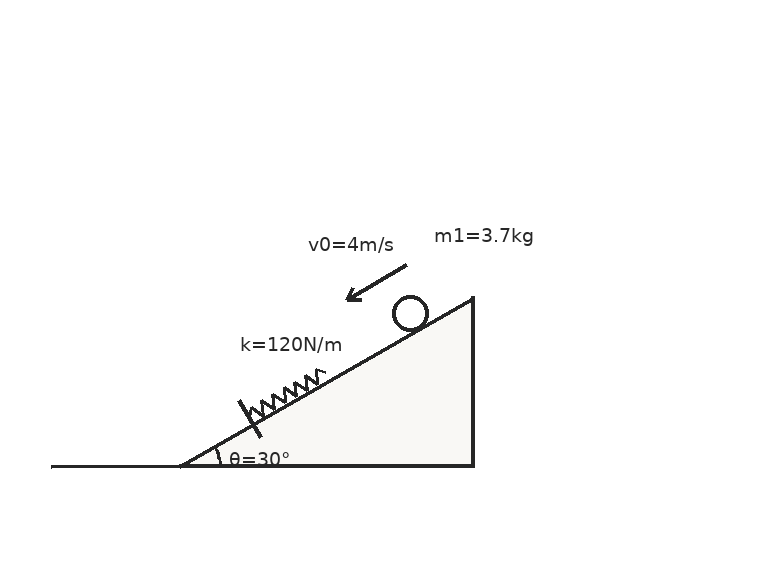ball: (390, 293, 430, 333)
ramp: (178, 295, 475, 468)
spring: (247, 367, 327, 418)
